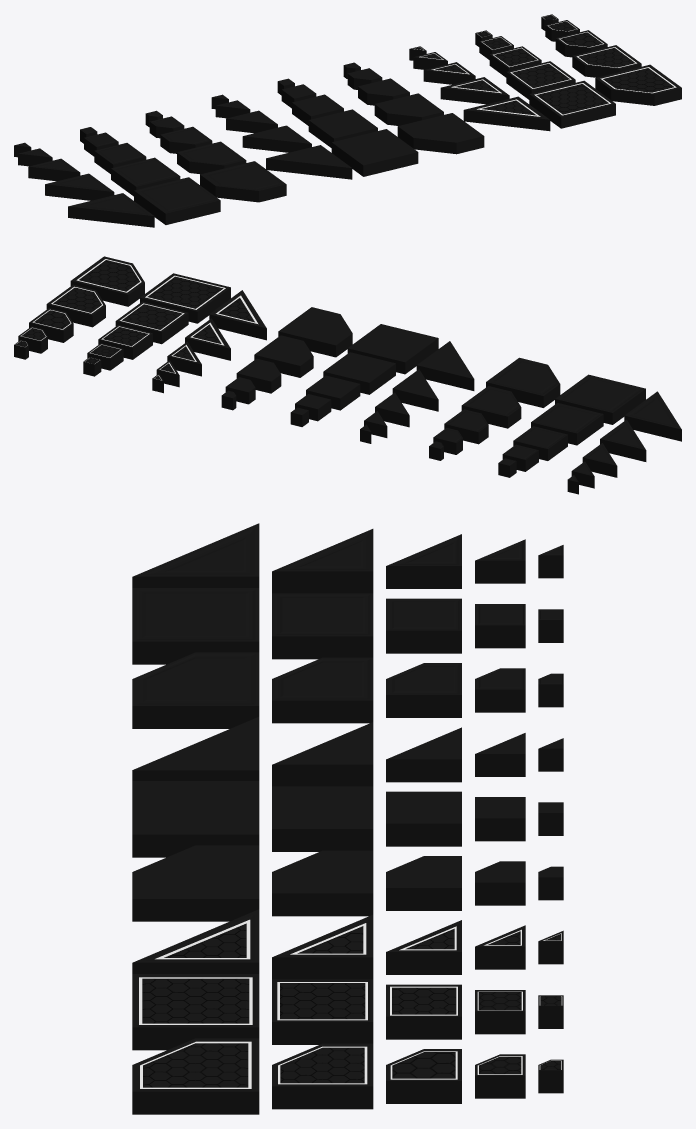
File: ModularPieces.fbx
3 views of the same model, one above another, from view 1: azimuth 30°, elevation 25°; view 2: azimuth 150°, elevation 25°; view 3: azimuth 270°, elevation 25° (orthographic). The views are drawn at different scales.
Visible parts, largest first — view 1: pCube184, pCube163, pCube207, pCube180, pCube176, pCube211, pCube172, pCube188, pCube203, pCube138, pCube183, pCube206 (+24 smaller); view 2: pCube184, pCube163, pCube207, pCube180, pCube211, pCube176, pCube138, pCube183, pCube206, pCube188, pCube203, pCube172 (+24 smaller); view 3: pCube176, pCube207, pCube184, pCube163, pCube211, pCube180, pCube206, pCube138, pCube183, pCube175, pCube210, pCube179 (+30 smaller).
Part boxes in pixels (<box>): pCube184: <box>331,129,418,176</box>; pCube163: <box>529,80,615,128</box>; pCube207: <box>134,177,220,224</box>; pCube180: <box>397,113,484,154</box>; pCube176: <box>595,64,681,105</box>; pCube211: <box>200,161,286,202</box>; pCube172: <box>463,96,550,131</box>; pCube188: <box>266,145,352,179</box>; pCube203: <box>68,193,154,227</box>; pCube138: <box>506,61,575,99</box>; pCube183: <box>308,109,377,147</box>; pCube206: <box>111,157,180,196</box>; pCube184: <box>347,324,438,374</box>; pCube163: <box>140,273,230,323</box>; pCube207: <box>555,374,645,424</box>; pCube180: <box>278,307,352,357</box>; pCube211: <box>486,357,560,407</box>; pCube176: <box>70,256,144,306</box>; pCube138: <box>115,301,188,344</box>; pCube183: <box>323,352,395,394</box>; pCube206: <box>531,403,603,445</box>; pCube188: <box>416,341,474,390</box>; pCube203: <box>624,391,681,441</box>; pCube172: <box>209,290,266,340</box>; pCube176: <box>132,1038,259,1114</box>; pCube207: <box>132,588,259,664</box>; pCube184: <box>132,781,259,857</box>; pCube163: <box>132,974,259,1050</box>; pCube211: <box>132,652,259,728</box>; pCube180: <box>132,845,259,921</box>; pCube206: <box>272,593,373,659</box>; pCube138: <box>272,979,373,1044</box>; pCube183: <box>272,786,373,851</box>; pCube175: <box>272,1043,373,1109</box>; pCube210: <box>272,657,373,723</box>; pCube179: <box>272,850,373,916</box>.
Size of the model in its own units: 53 by 1.02 by 17.
